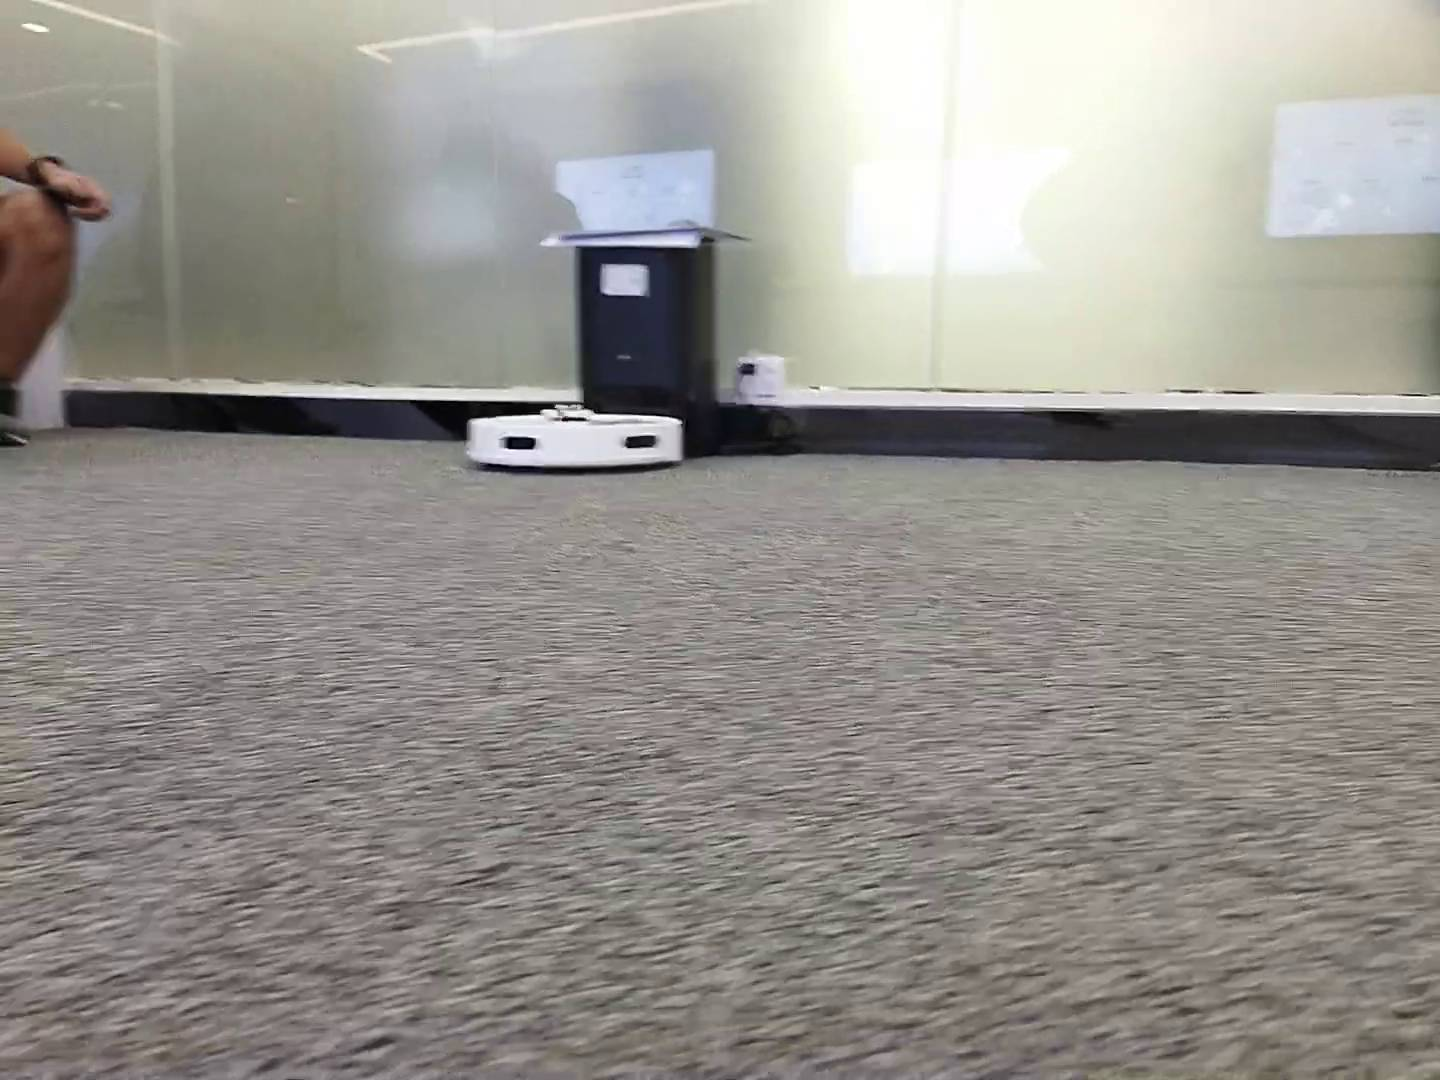dust collecting barrel: (571, 237, 717, 459)
